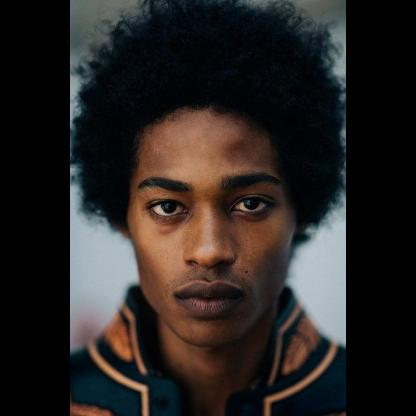Male: (129, 106, 294, 342)
